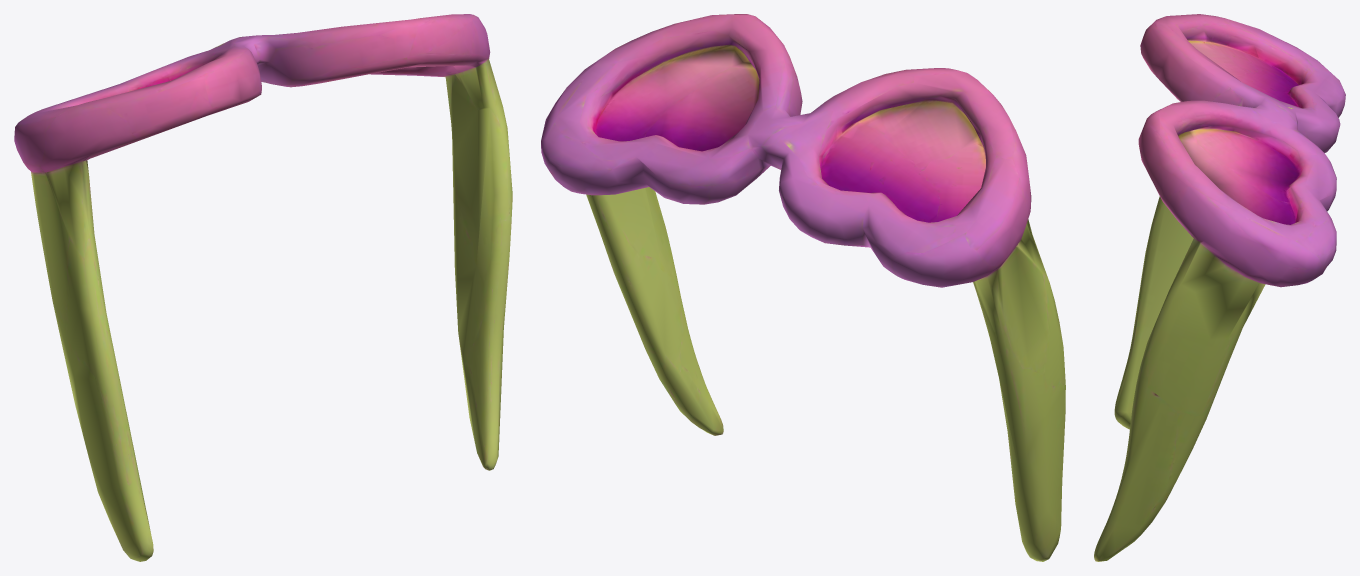
3 views of the same model, side by side, from view 1: azimuth 30°, elevation 25°; view 2: azimuth 150°, elevation 25°; view 3: azimuth 270°, elevation 25° (orthographic). The views are drawn at different scales.
Parts seen in each view (by area): view 1: material; view 2: material; view 3: material.
Boxes of the visible parts, box(x1,y1,x2,y2) form: material: box(14, 14, 512, 561); material: box(541, 14, 1065, 561); material: box(1094, 14, 1345, 561).
Bounding box in the file's own units: 0.9998 × 1 × 0.5142.
Materials: 1 (1 with a texture image).
